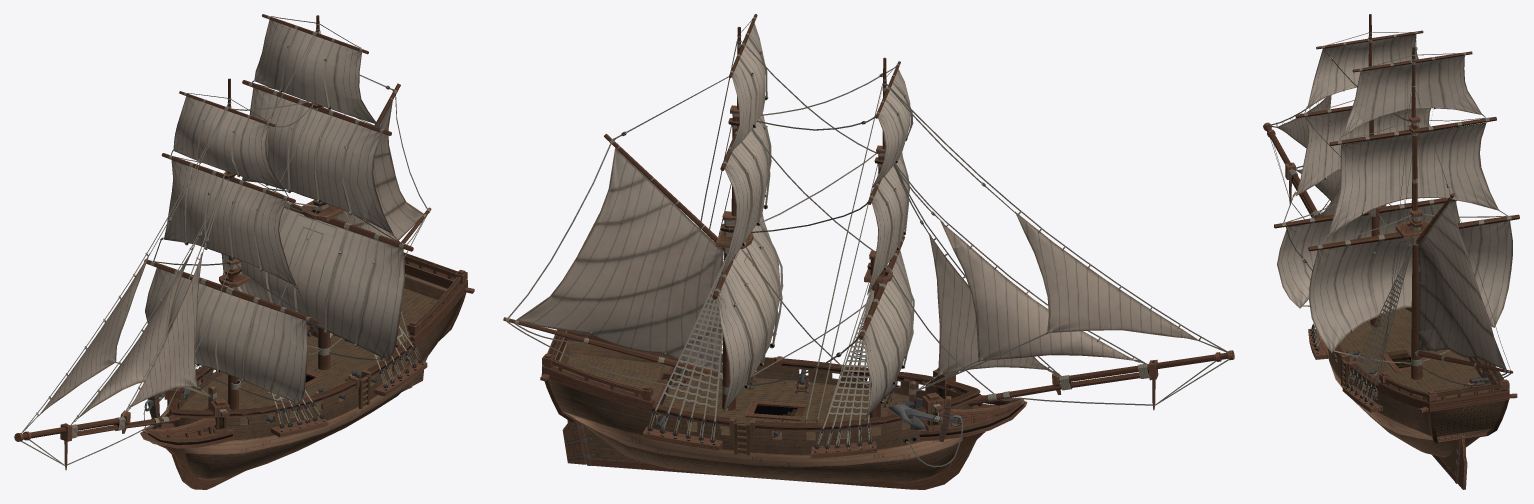
The model's file is sailing_ship_cyc3w.glb.
3 views of the same model, side by side, from view 1: azimuth 30°, elevation 25°; view 2: azimuth 150°, elevation 25°; view 3: azimuth 270°, elevation 25° (orthographic). The views are drawn at different scales.
Visible parts, largest first — view 1: Obj3d66-15910671-2-38_3d66-Standardmaterial-15910671-003_0, Obj3d66-15910671-2-38_3d66-Standardmaterial-15910671-005_0, Obj3d66-15910671-2-38_3d66-Standardmaterial-15910671-004_0; view 2: Obj3d66-15910671-2-38_3d66-Standardmaterial-15910671-003_0, Obj3d66-15910671-2-38_3d66-Standardmaterial-15910671-005_0, Obj3d66-15910671-2-38_3d66-Standardmaterial-15910671-004_0; view 3: Obj3d66-15910671-2-38_3d66-Standardmaterial-15910671-003_0, Obj3d66-15910671-2-38_3d66-Standardmaterial-15910671-005_0, Obj3d66-15910671-2-38_3d66-Standardmaterial-15910671-004_0.
Part boxes in pixels (x1,y1,x2,y2): Obj3d66-15910671-2-38_3d66-Standardmaterial-15910671-003_0: (38,19,424,418); Obj3d66-15910671-2-38_3d66-Standardmaterial-15910671-005_0: (14,14,474,489); Obj3d66-15910671-2-38_3d66-Standardmaterial-15910671-004_0: (173,274,462,479); Obj3d66-15910671-2-38_3d66-Standardmaterial-15910671-003_0: (516,23,1198,422); Obj3d66-15910671-2-38_3d66-Standardmaterial-15910671-005_0: (503,14,1234,489); Obj3d66-15910671-2-38_3d66-Standardmaterial-15910671-004_0: (548,342,972,482); Obj3d66-15910671-2-38_3d66-Standardmaterial-15910671-003_0: (1276,34,1512,369); Obj3d66-15910671-2-38_3d66-Standardmaterial-15910671-005_0: (1263,14,1519,489); Obj3d66-15910671-2-38_3d66-Standardmaterial-15910671-004_0: (1327,307,1504,474).
Size of the model in its own units: 1.71 by 1.25 by 0.7574.
3 materials, 3 textured.
